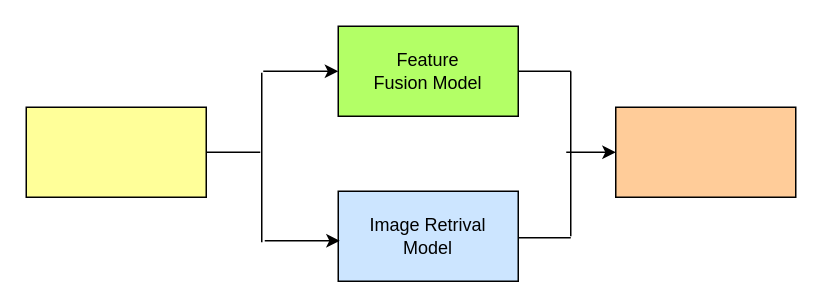
The diagram is 822 pixels wide and 308 high, and some of its shapes have lost their labels. Here are the shapes that lost their labels. From the top down, the centre of each, then its label:
At pixel 115 151: "Data".
At pixel 705 151: "Concardinator".
